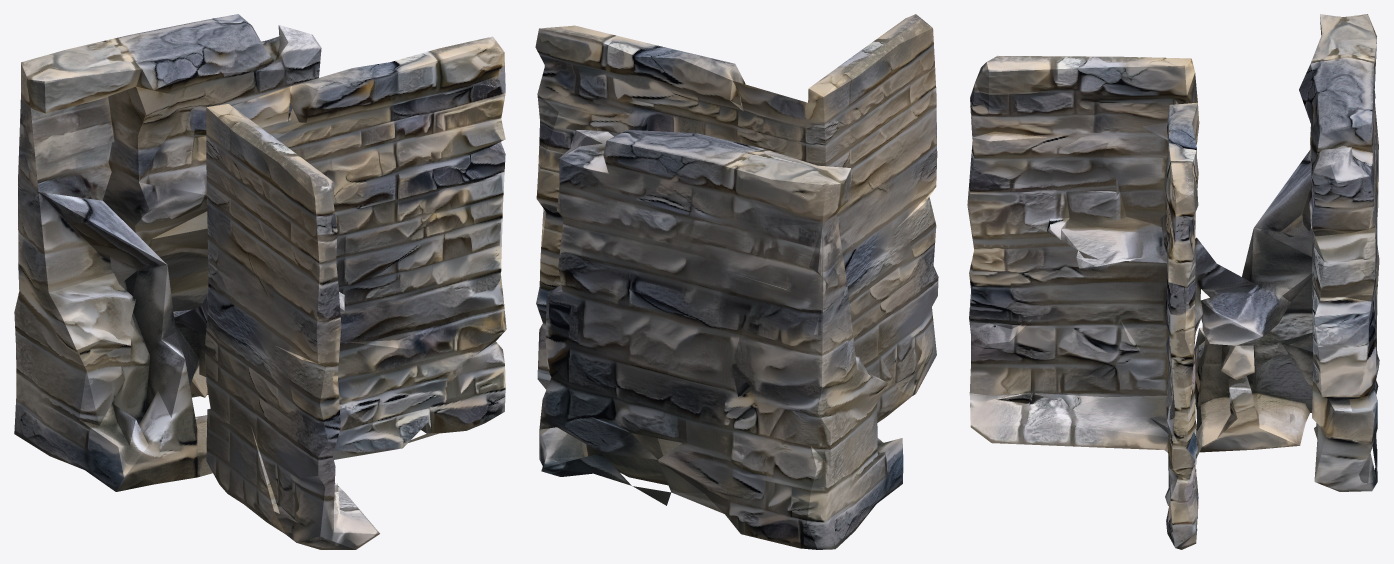
The model's file is mur_pierre.glb.
3 views of the same model, side by side, from view 1: azimuth 30°, elevation 25°; view 2: azimuth 150°, elevation 25°; view 3: azimuth 270°, elevation 25° (orthographic). The views are drawn at different scales.
Parts seen in each view (by area): view 1: world; view 2: world; view 3: world.
Boxes of the visible parts, left/top/right/bottom form: world: left=14, top=14, right=506, bottom=549; world: left=535, top=14, right=938, bottom=549; world: left=967, top=14, right=1379, bottom=549.
Bounding box in the file's own units: 1 × 0.9278 × 0.9427.
1 material, 1 textured.
